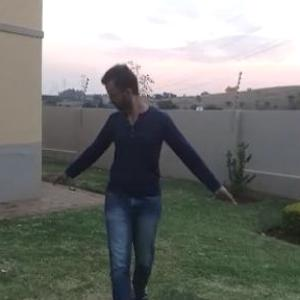land: (36, 50, 248, 299)
